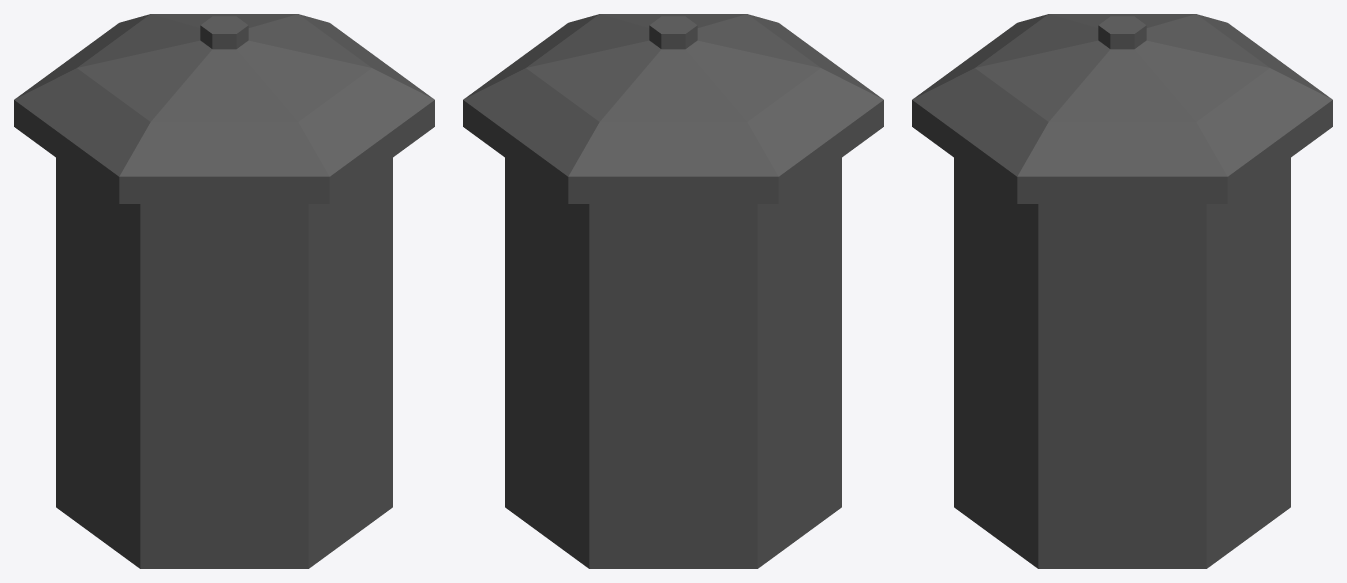
File: Urn.fbx
3 renders of one model, left to right at view 1: azimuth 30°, elevation 25°; view 2: azimuth 150°, elevation 25°; view 3: azimuth 270°, elevation 25°, orthographic.
Visible parts, largest first — view 1: Urn; view 2: Urn; view 3: Urn.
Part boxes in pixels (left/top/right/bottom): Urn: left=14, top=14, right=434, bottom=568; Urn: left=463, top=14, right=883, bottom=568; Urn: left=912, top=14, right=1332, bottom=568.
Bounding box in the file's own units: 37.85 × 55.22 × 43.7.
